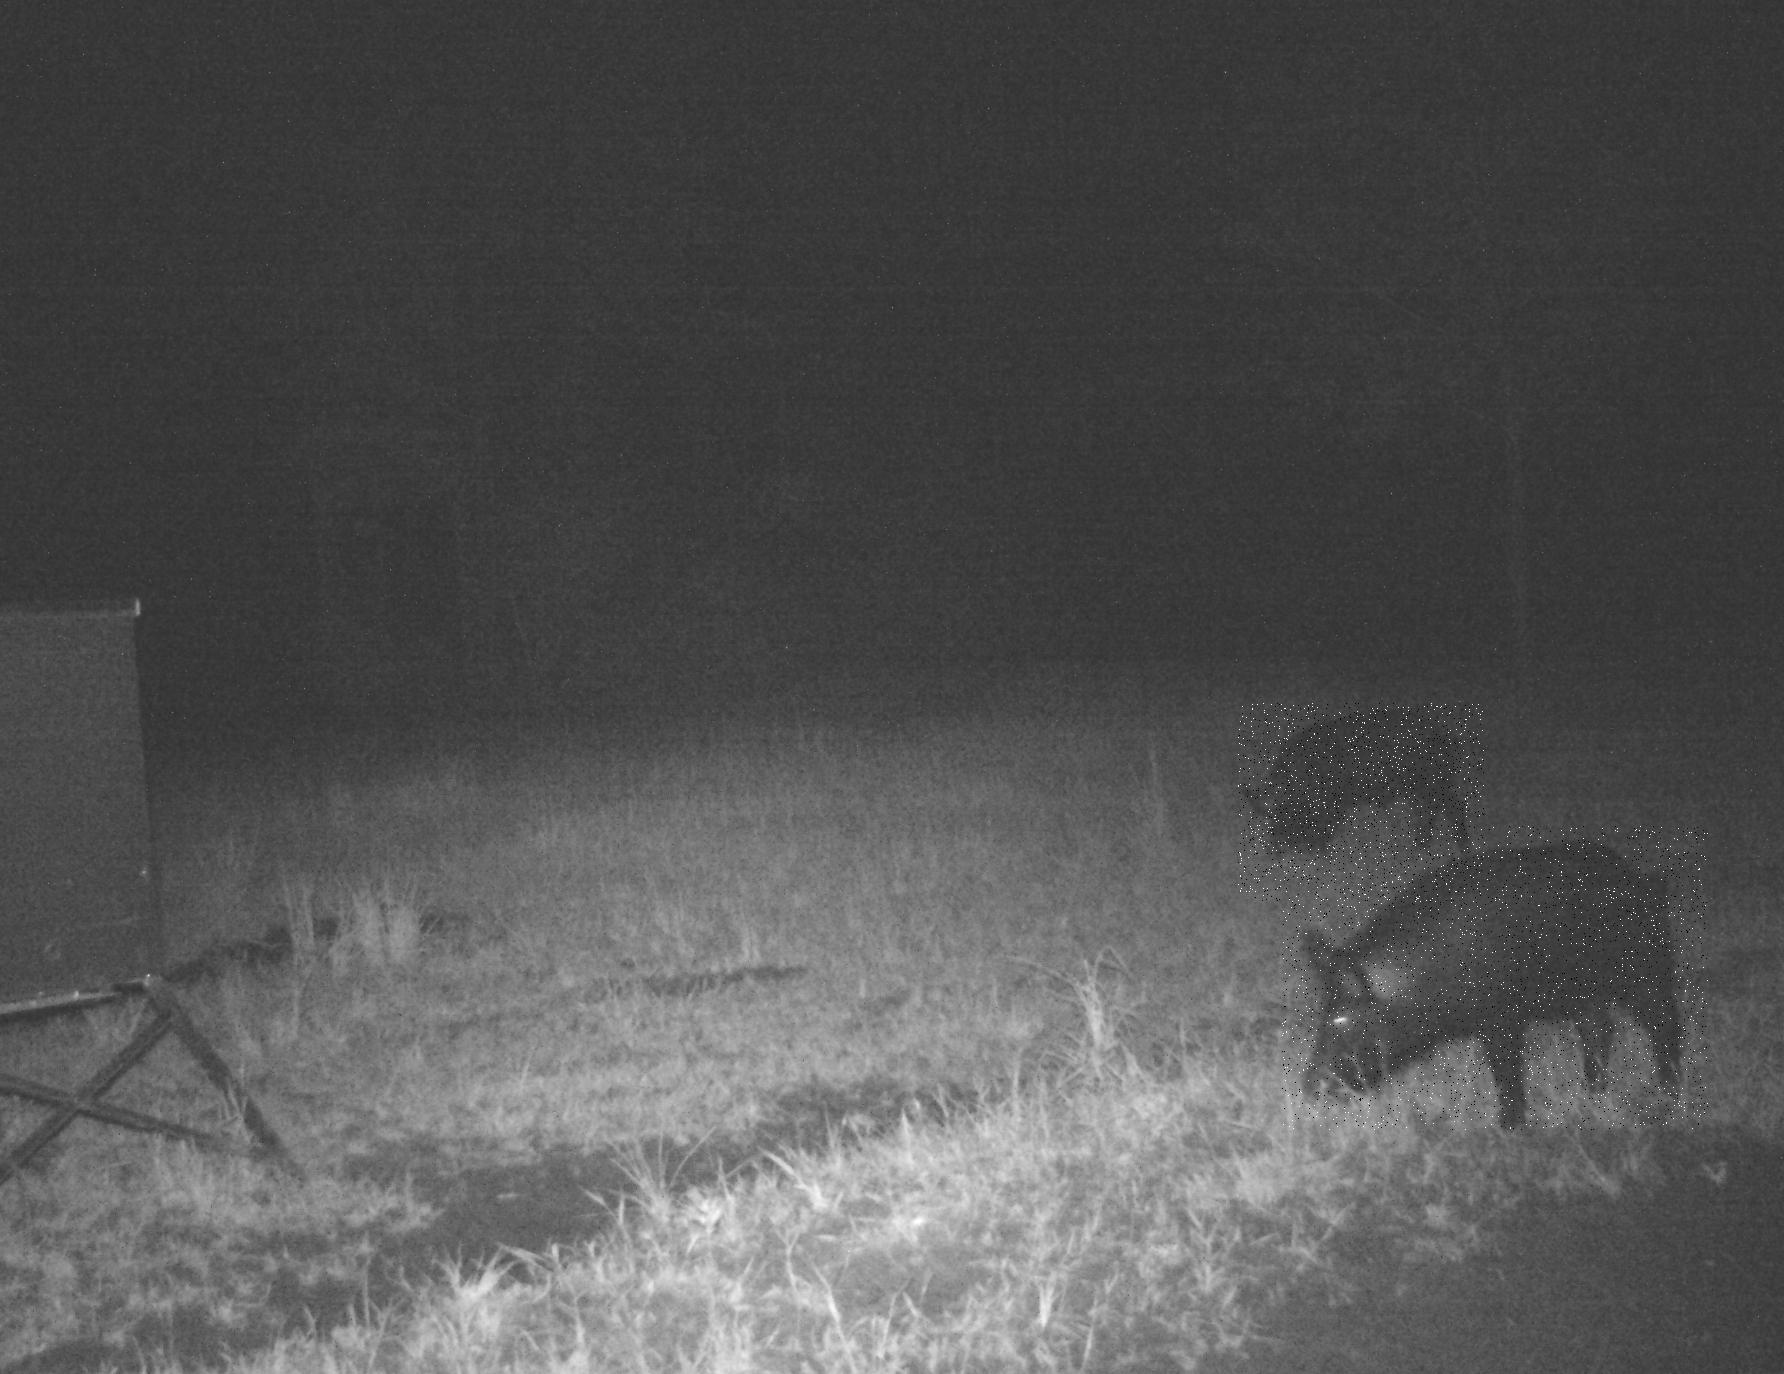Hog: (1282, 826, 1708, 1130), (1238, 703, 1484, 901)
